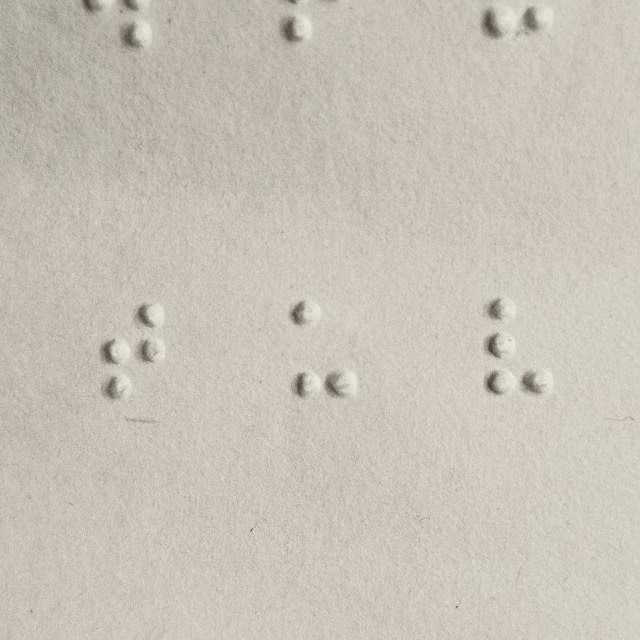one_cell_alphabet_bagaman: (484, 296, 553, 398)
one_cell_alphabet_tayo: (100, 300, 168, 402)
one_cell_alphabet_upang: (289, 300, 357, 402)
